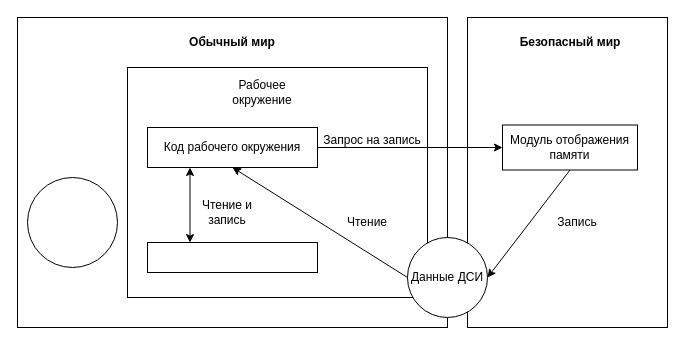
The diagram is 685 pixels wide and 345 high, and some of its shapes have lost their labels. The centre of each missing label's shape, as x and y in pixels:
Данные гипервизора: point 72,222
Страницы стека: point 232,257
